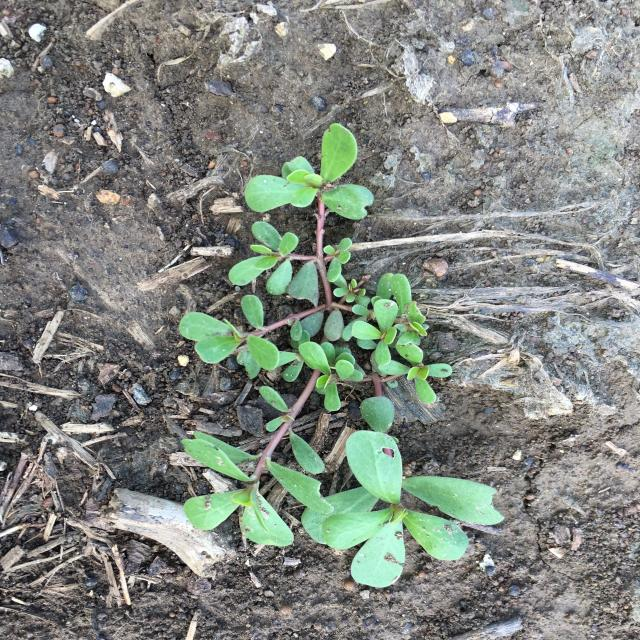Purslane: (179, 123, 505, 588)
